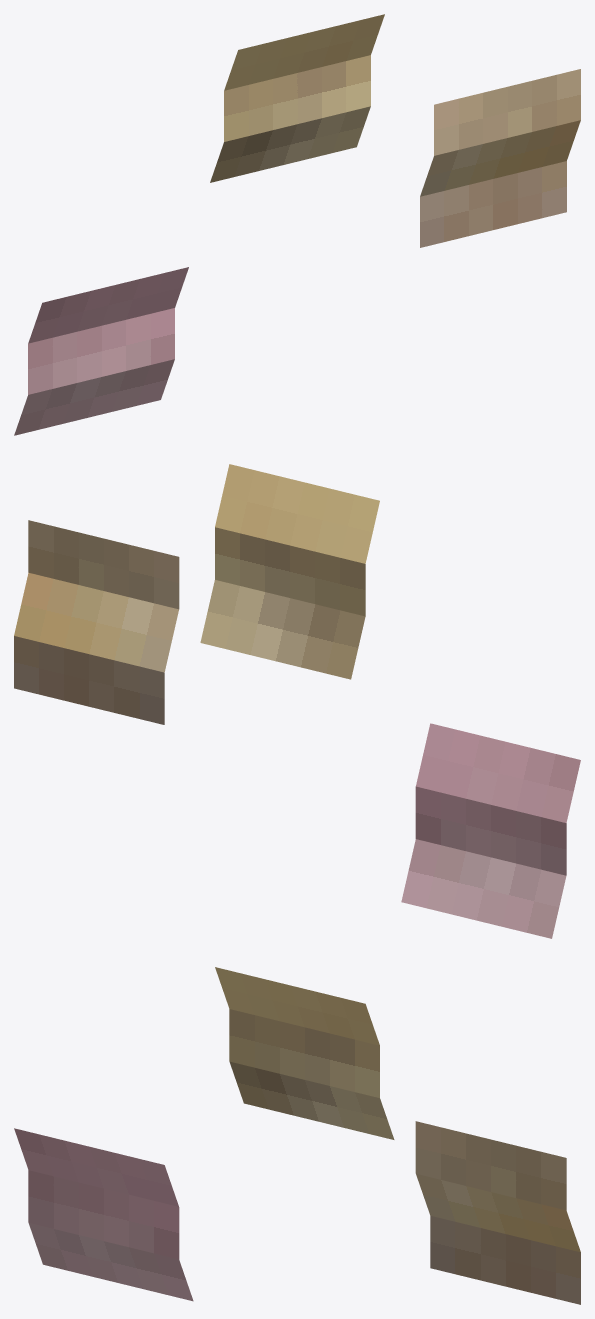
Rendered from sticky_note.fbx.
3 renders of one model, top to bottom at view 1: azimuth 30°, elevation 25°; view 2: azimuth 150°, elevation 25°; view 3: azimuth 330°, elevation 25°, orthographic. The views are drawn at different scales.
Visible parts, largest first — view 1: sticky_note; view 2: sticky_note; view 3: sticky_note.
Part boxes in pixels (left/top/right/bottom): sticky_note: left=14, top=14, right=580, bottom=435; sticky_note: left=14, top=464, right=580, bottom=938; sticky_note: left=14, top=967, right=580, bottom=1304.
Bounding box in the file's own units: 110 × 70 × 10.
